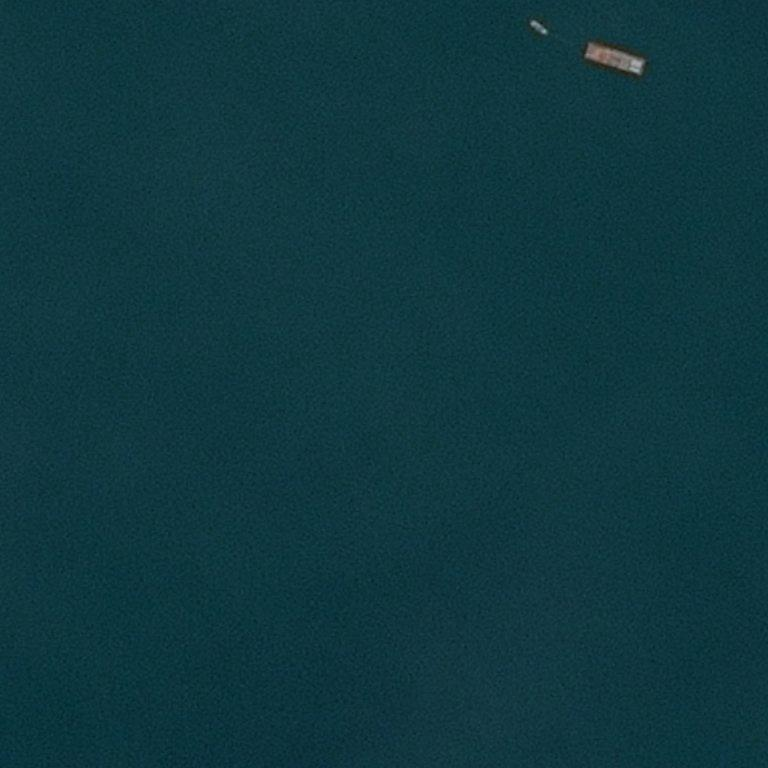ship: (582, 41, 649, 78), (527, 17, 552, 39)
